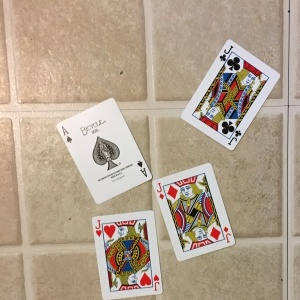card: (181, 40, 281, 149), (55, 96, 153, 204), (157, 164, 236, 262), (94, 210, 164, 299)
